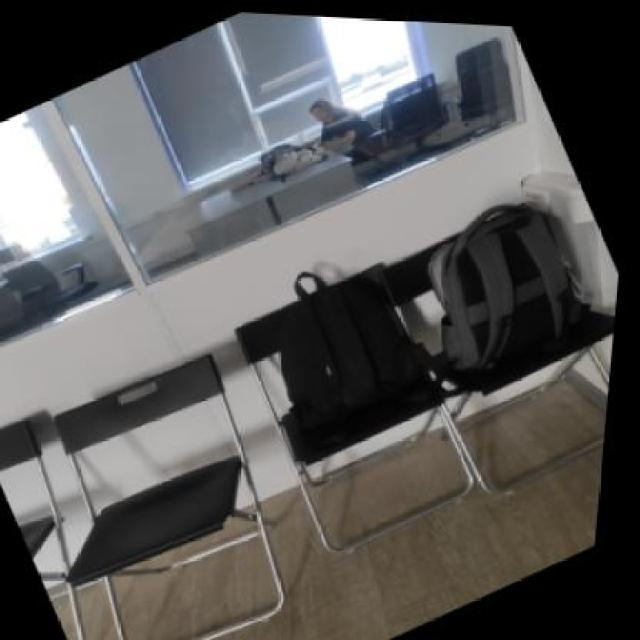chair: (0, 323, 360, 640), (206, 241, 511, 570), (364, 176, 628, 509)
